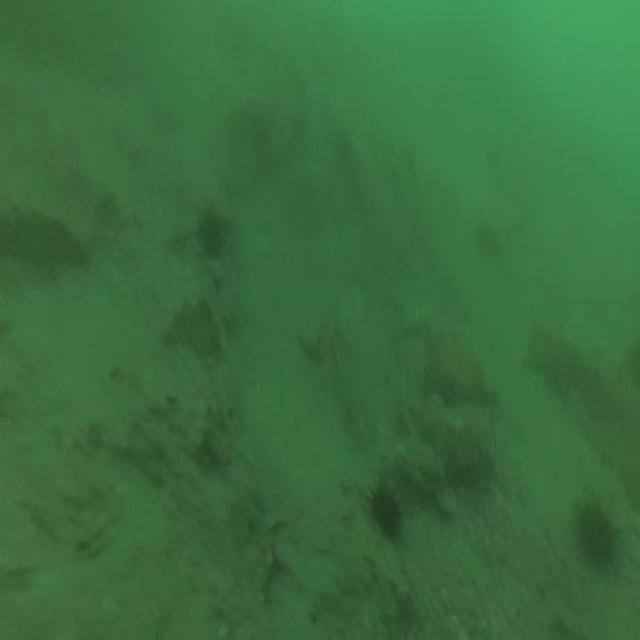echinus: (578, 503, 615, 564), (367, 485, 402, 536), (198, 213, 222, 254)
